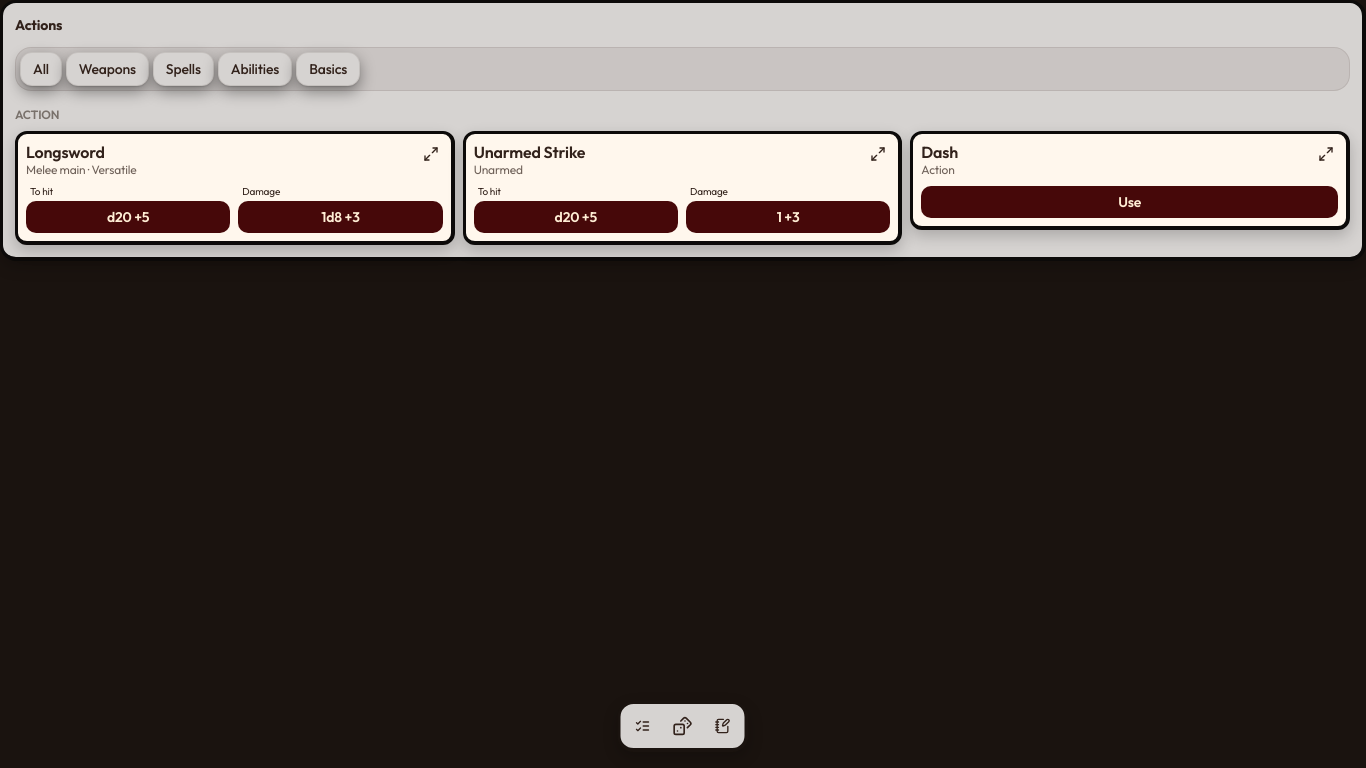
Test: AttacksActionsPanel roll integration › opens damage-only roll for longsword
Step 1. Click the button "1d8 +3" → (340, 216), box [238, 200, 443, 232]
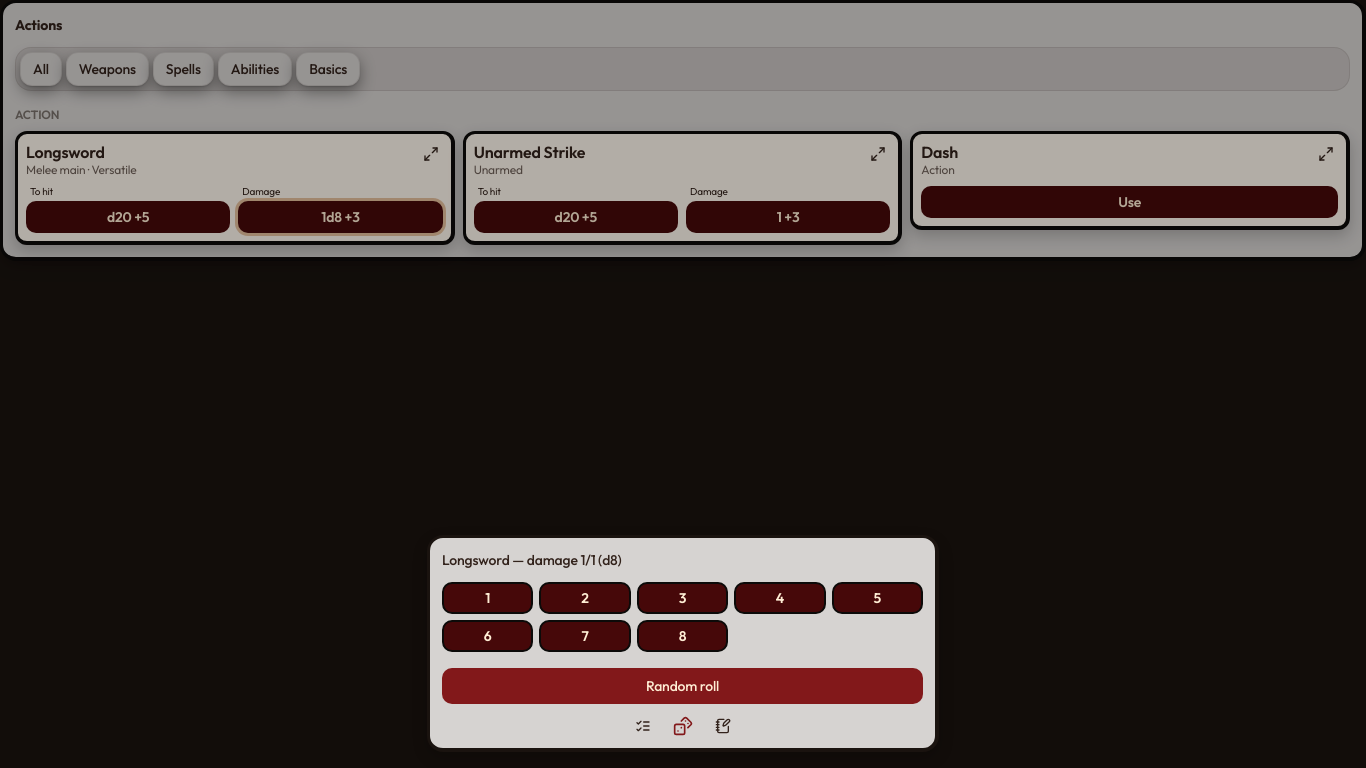
Expected: the text "Longsword — damage 1/1 (d8)" is shown, [442, 551, 622, 569]
